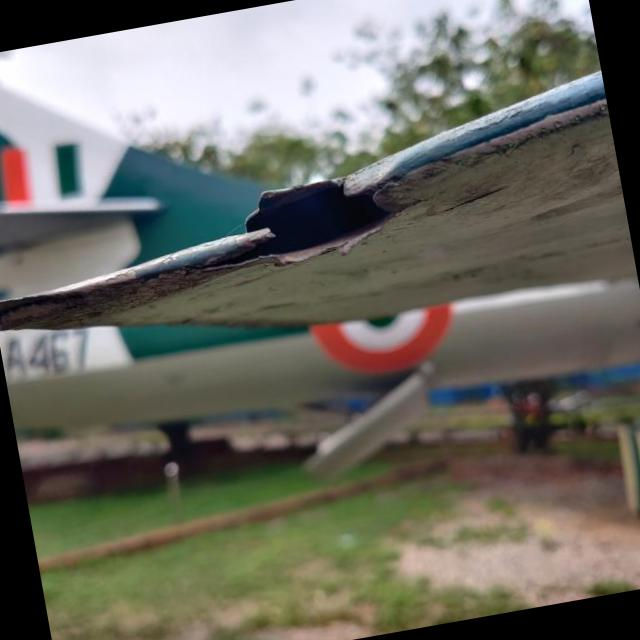Crack: (226, 178, 391, 262)
